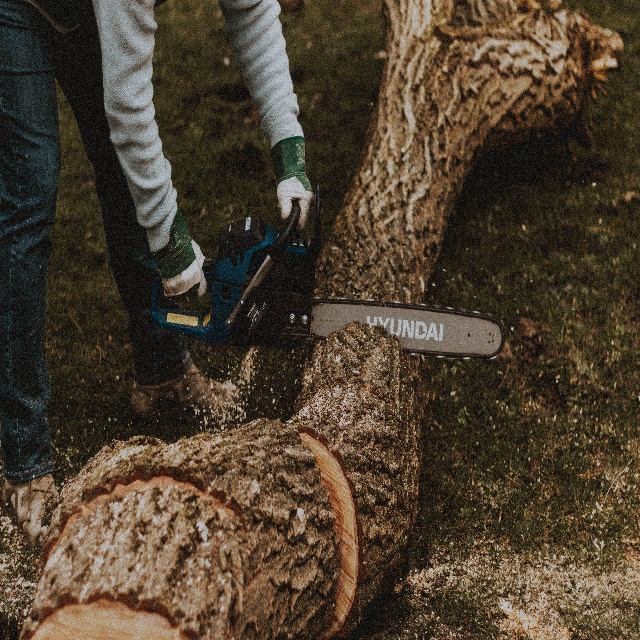Guantes: (156, 213, 206, 308), (270, 141, 312, 229)
